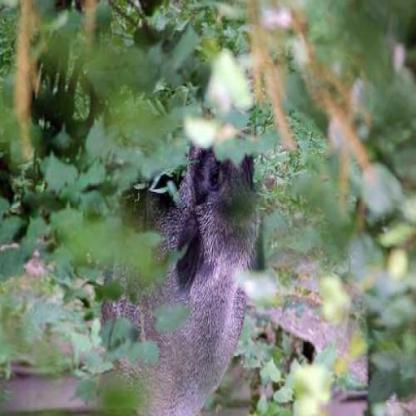boar: (57, 138, 290, 416)
